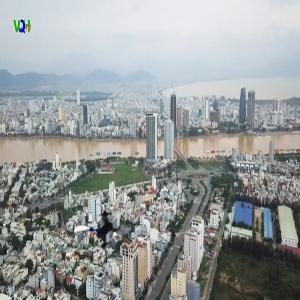drone: (69, 204, 127, 262)
